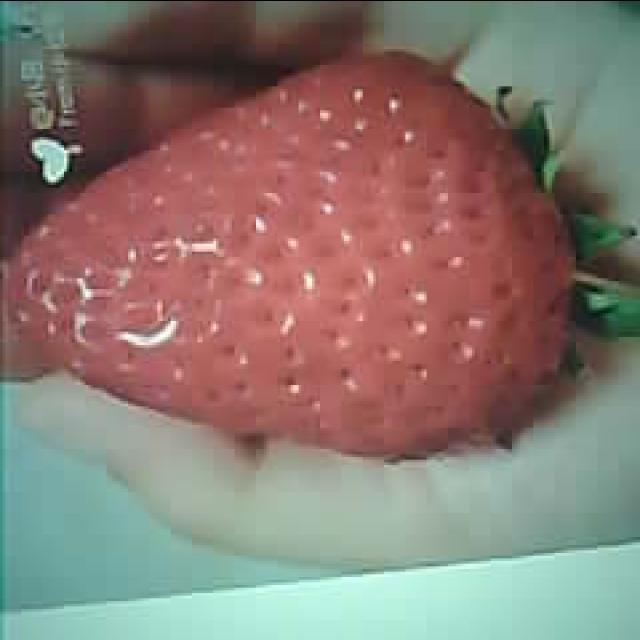strawberry: (16, 54, 578, 462)
